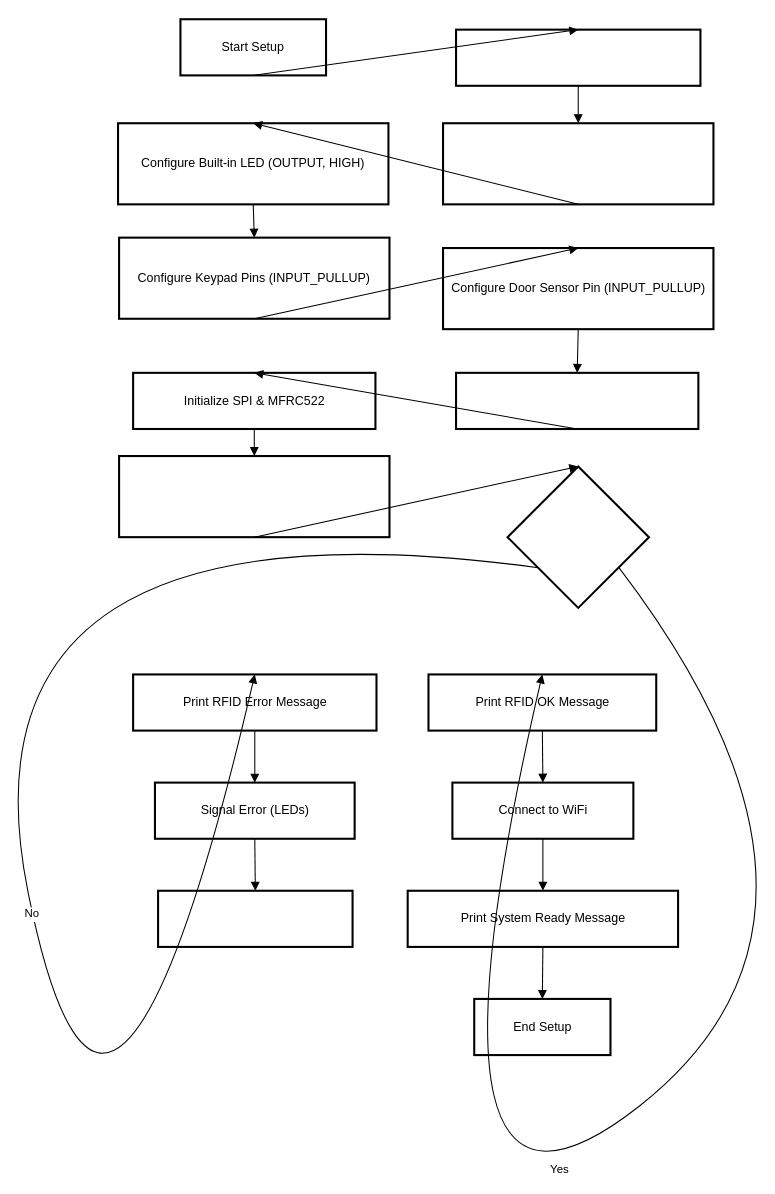
Image size: 775x1194. Some labels were removed from this diagram. The centre of each missing label's shape, as x and y in pixels:
"Configure Relay Pin (OUTPUT, LOW)" goes at point (577, 163).
"Halt System - End" goes at point (255, 918).
"Initialize Serial (115200)" goes at point (577, 57).
"Print Welcome Messages" goes at point (576, 400).
"Read MFRC522 Version Register" goes at point (254, 496).
"Version OK?" goes at point (577, 536).
